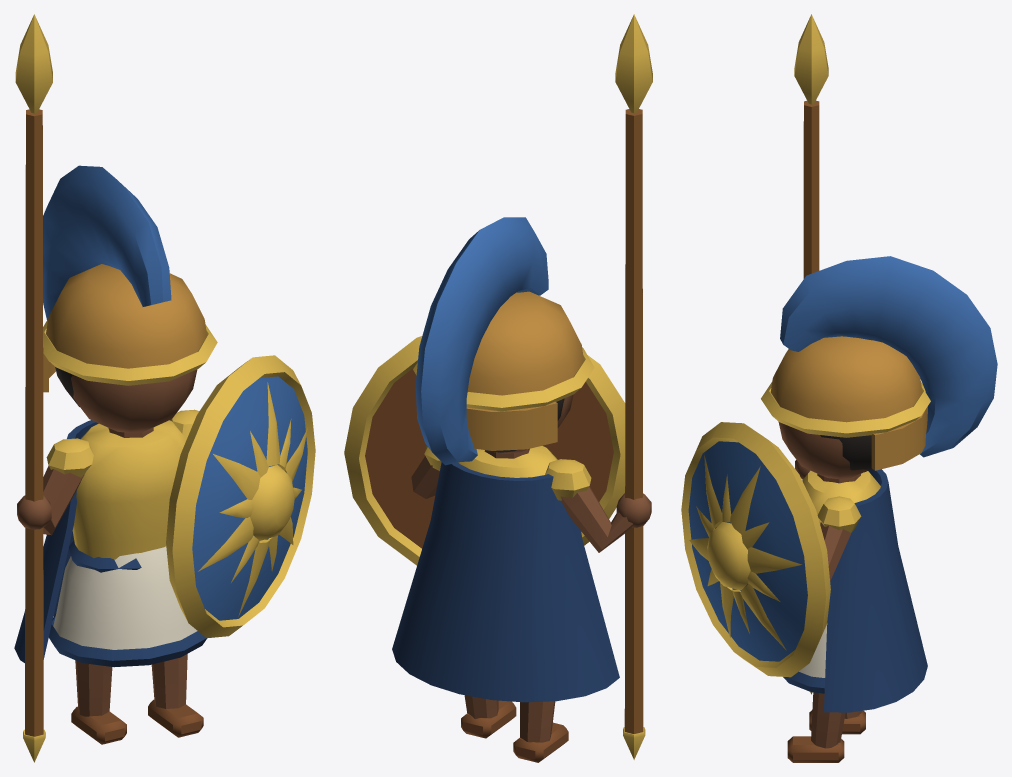
File: memnon.glb
The picture shows the model from 3 angles, left to right: view 1: azimuth 30°, elevation 25°; view 2: azimuth 150°, elevation 25°; view 3: azimuth 270°, elevation 25°; orthographic projection. The views are drawn at different scales.
Parts seen in each view (by area): view 1: memnon; view 2: memnon; view 3: memnon.
Part boxes in pixels (x1,y1,x2,y2): memnon: (14,14,315,762); memnon: (344,14,652,762); memnon: (681,14,997,762).
Size of the model in its own units: 0.5452 by 1.29 by 0.5446.
